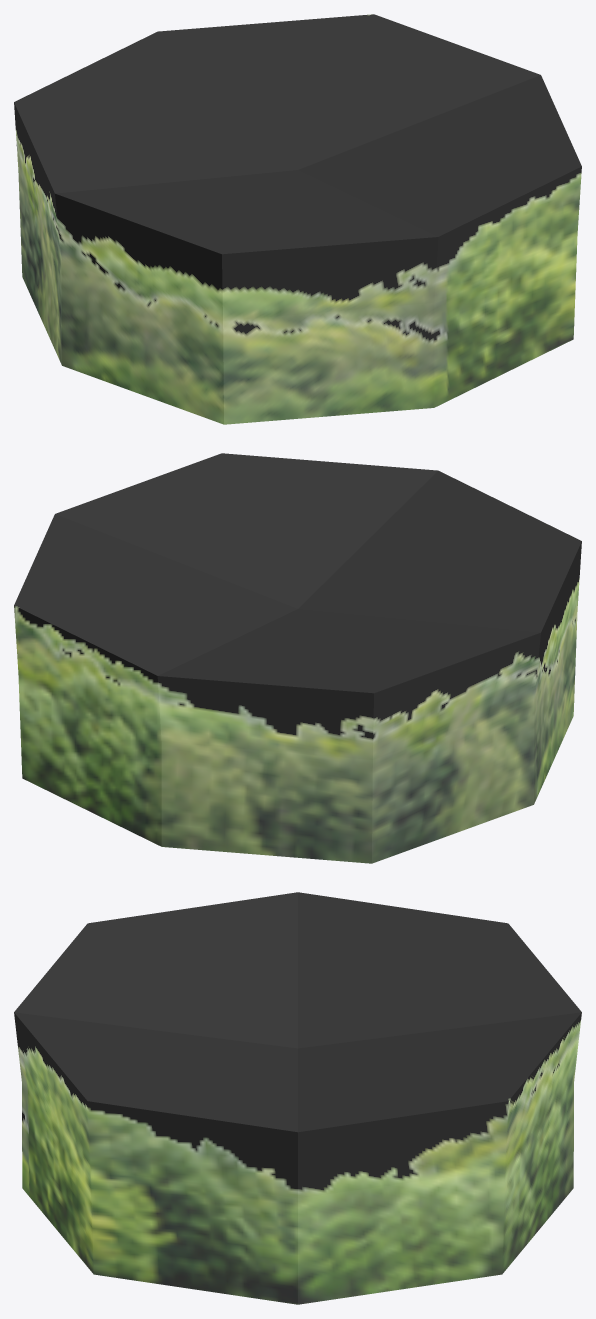
File: Forest.FBX
3 views of the same model, one above another, from view 1: azimuth 30°, elevation 25°; view 2: azimuth 150°, elevation 25°; view 3: azimuth 270°, elevation 25° (orthographic).
Parts seen in each view (by area): view 1: Forest; view 2: Forest; view 3: Forest.
Boxes of the visible parts, left/top/right/bottom form: Forest: left=14, top=14, right=581, bottom=424; Forest: left=14, top=453, right=581, bottom=863; Forest: left=14, top=892, right=581, bottom=1304.
Size of what is drawn, in the model's own units: 99.79 by 99.79 by 34.12.
